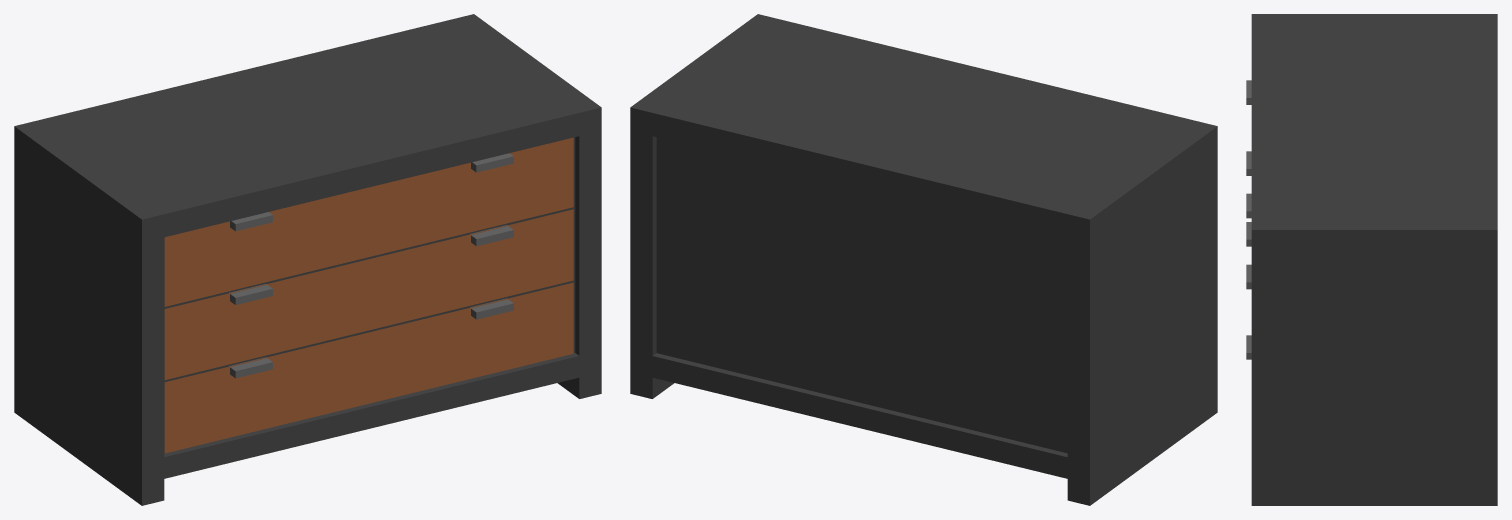
3 views of the same model, side by side, from view 1: azimuth 30°, elevation 25°; view 2: azimuth 150°, elevation 25°; view 3: azimuth 270°, elevation 25° (orthographic). The views are drawn at different scales.
Visible parts, largest first — view 1: shelf_001; view 2: shelf_001; view 3: shelf_001.
Boxes of the visible parts, x1=… form: shelf_001: x1=14, y1=14, x2=601, y2=505; shelf_001: x1=630, y1=14, x2=1217, y2=505; shelf_001: x1=1246, y1=14, x2=1497, y2=505.
Bounding box in the file's own units: 1.22 × 0.7288 × 0.6024.
